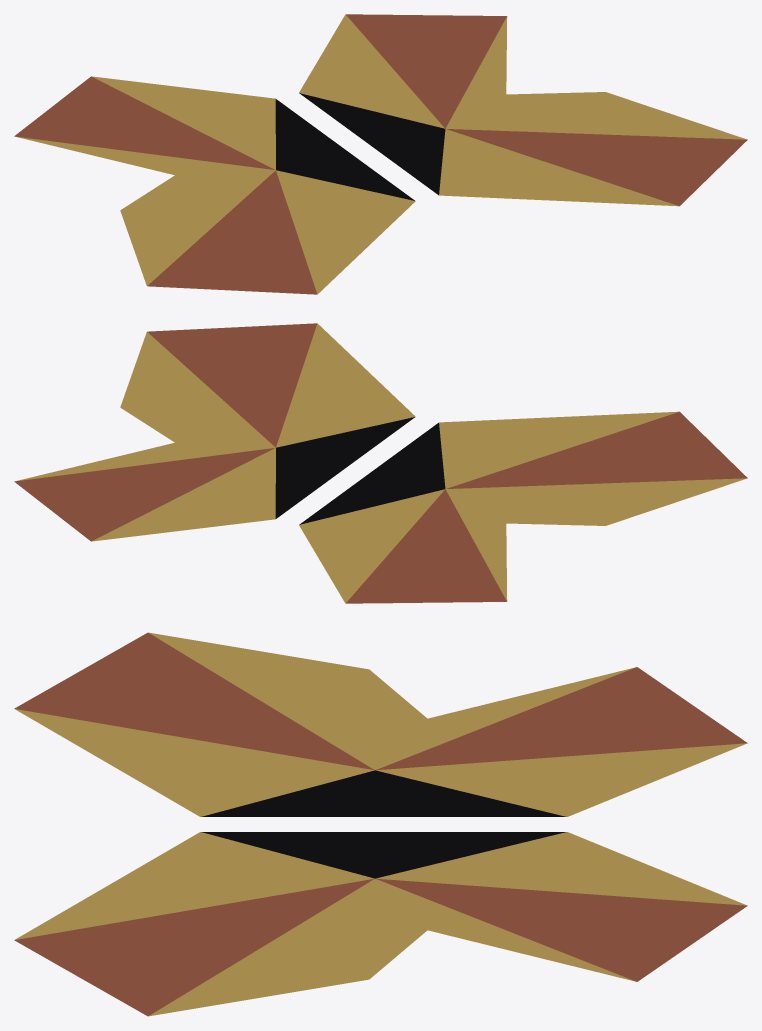
File: butterfly.glb
3 views of the same model, one above another, from view 1: azimuth 30°, elevation 25°; view 2: azimuth 150°, elevation 25°; view 3: azimuth 270°, elevation 25° (orthographic). The views are drawn at different scales.
Visible parts, largest first — view 1: wing_r, wing_l; view 2: wing_l, wing_r; view 3: wing_l, wing_r.
Boxes of the visible parts, bbox=[...] form: wing_r: bbox=[299, 14, 747, 206]; wing_l: bbox=[14, 76, 415, 294]; wing_l: bbox=[299, 411, 747, 603]; wing_r: bbox=[14, 323, 415, 541]; wing_l: bbox=[14, 632, 747, 816]; wing_r: bbox=[14, 832, 747, 1016].
Bounding box in the file's own units: 0.052 × 0 × 0.042.
